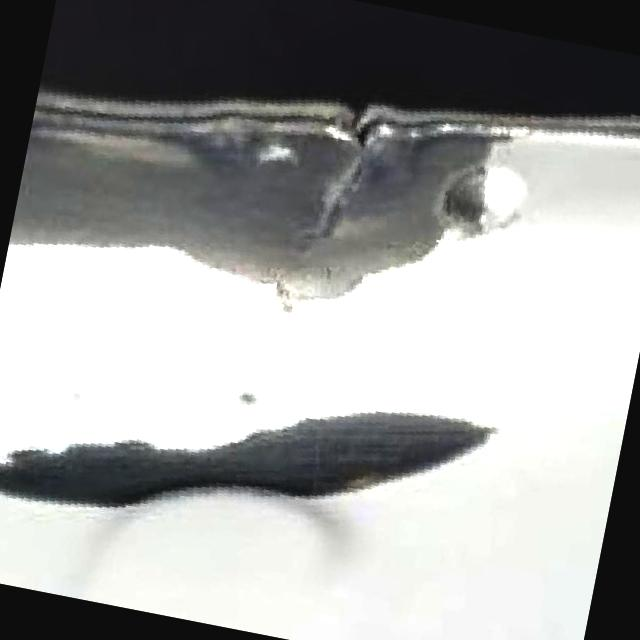crack: (0, 410, 494, 508), (110, 98, 588, 150), (285, 130, 373, 268)
